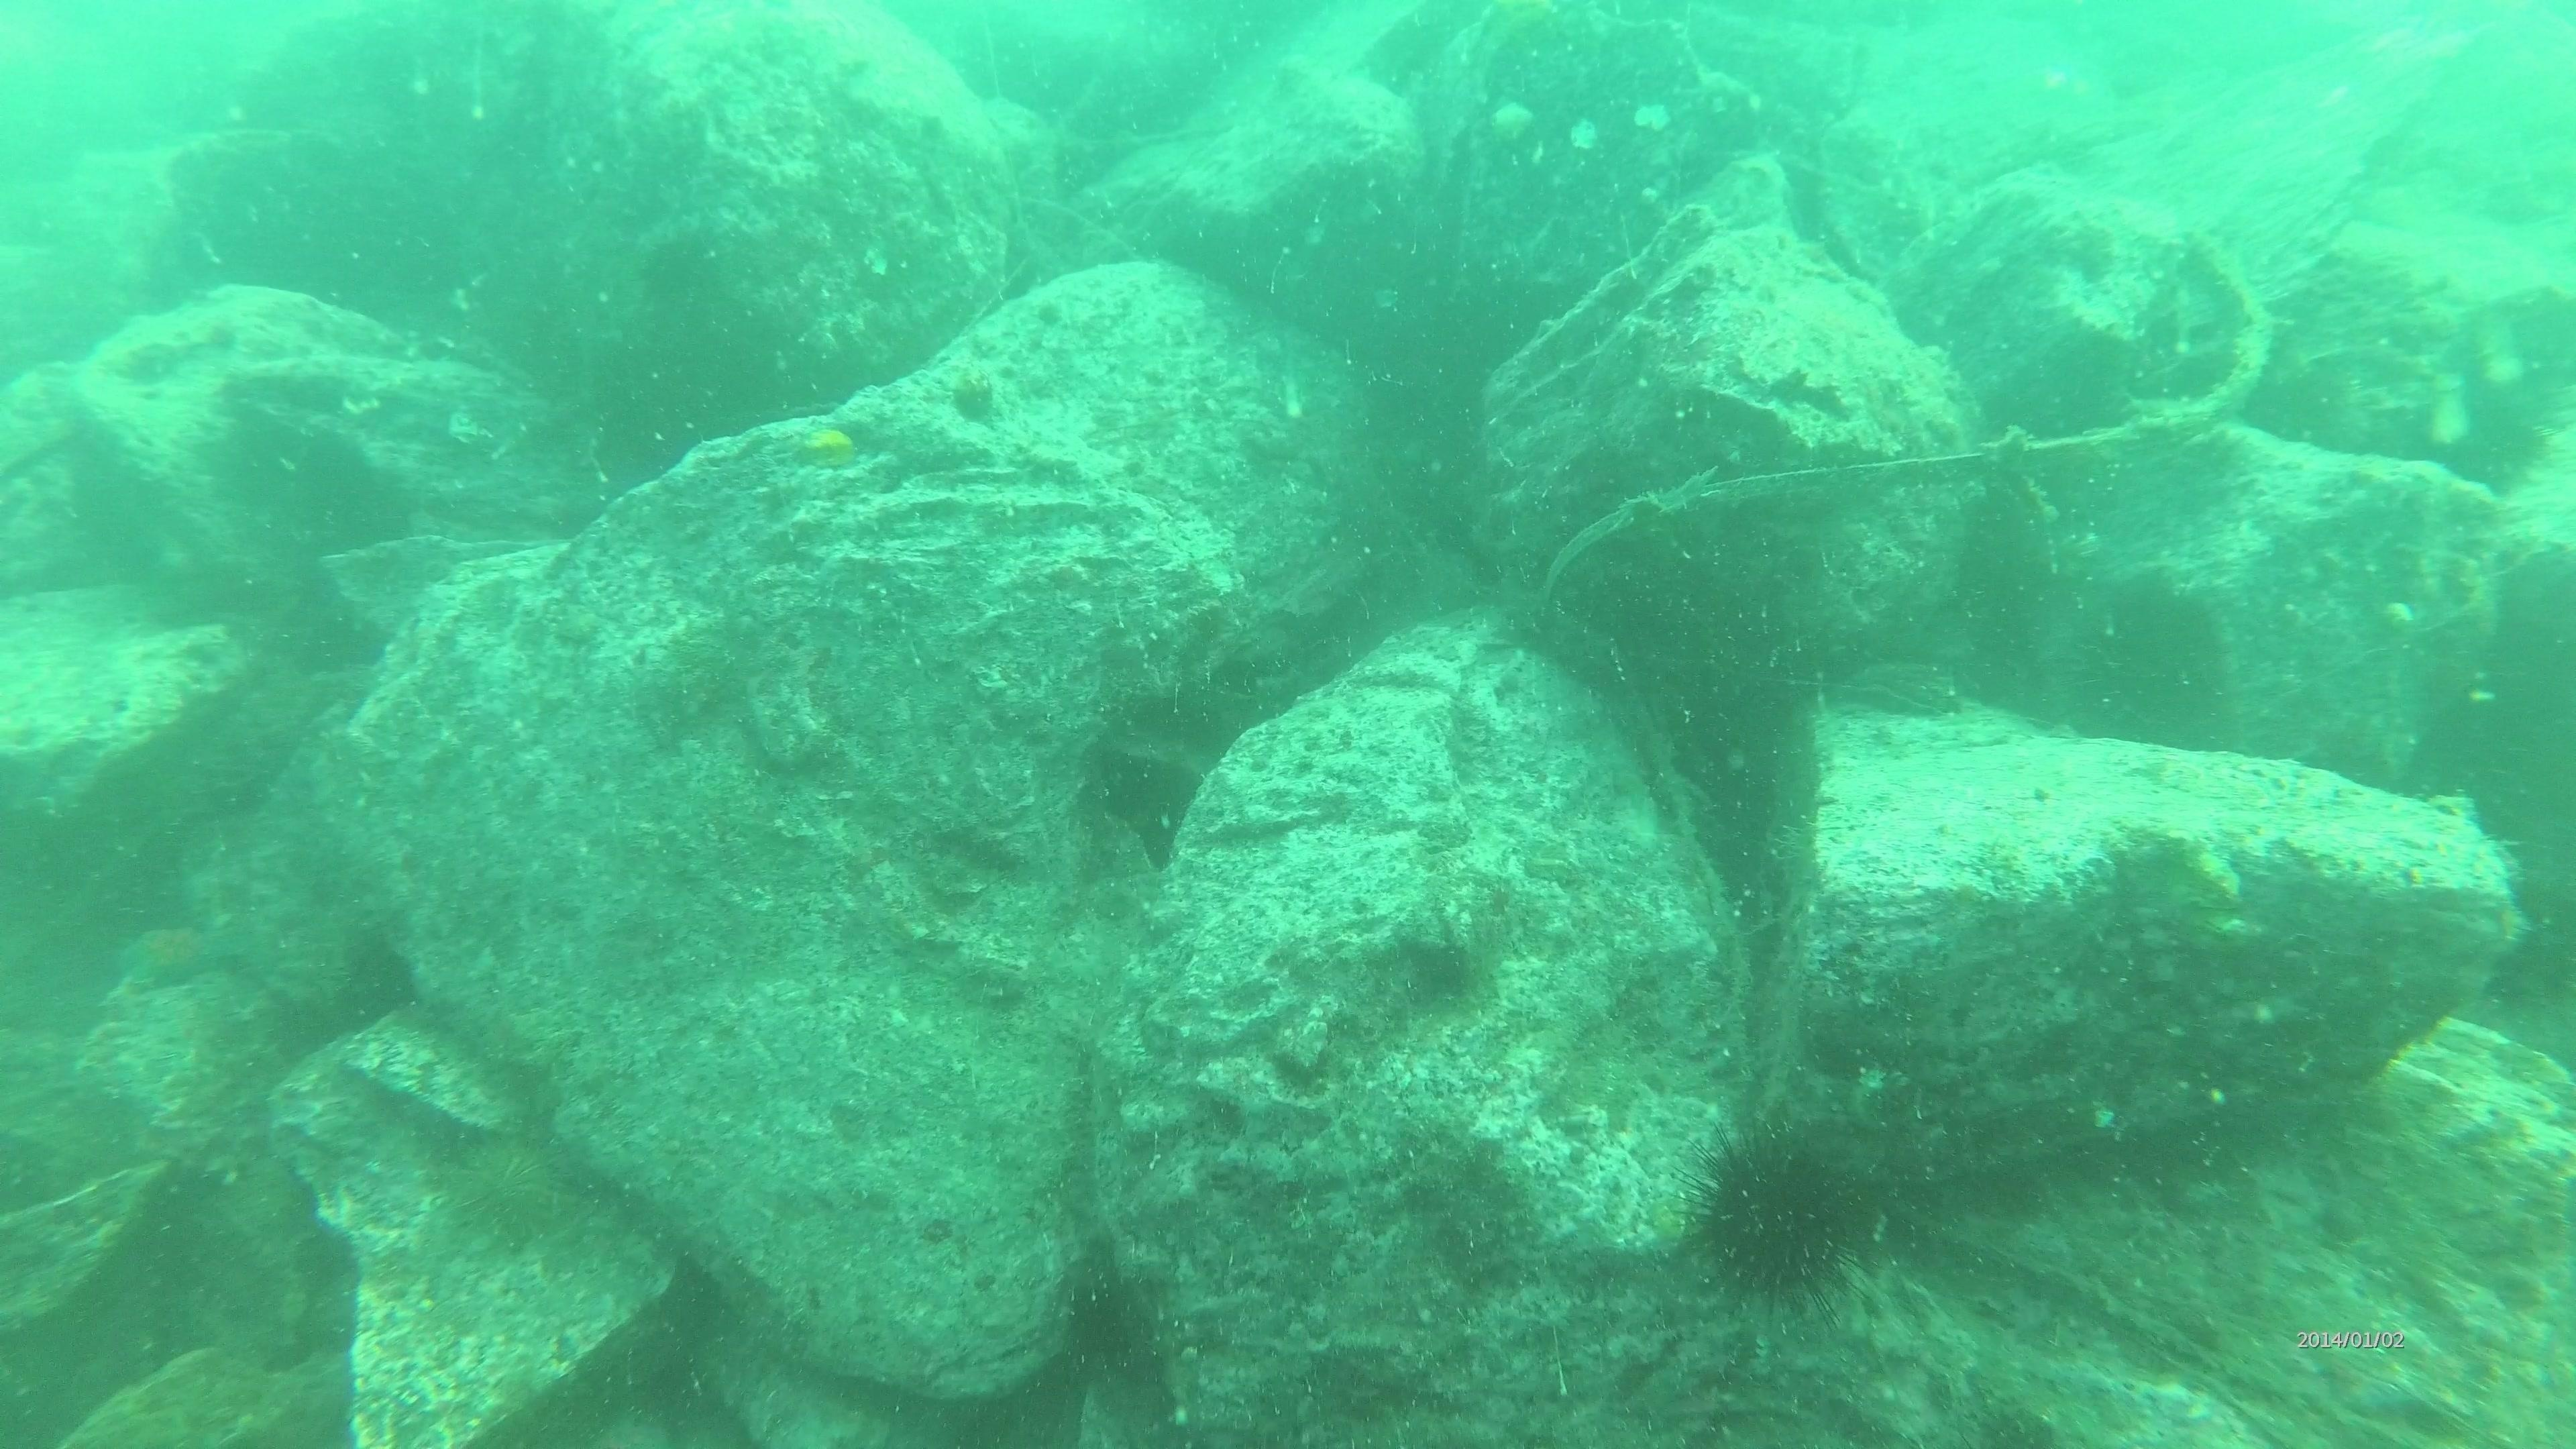echinus: (1681, 1122, 1875, 1316), (2056, 571, 2236, 748), (428, 1123, 579, 1256)
starfish: (106, 911, 241, 1000)
